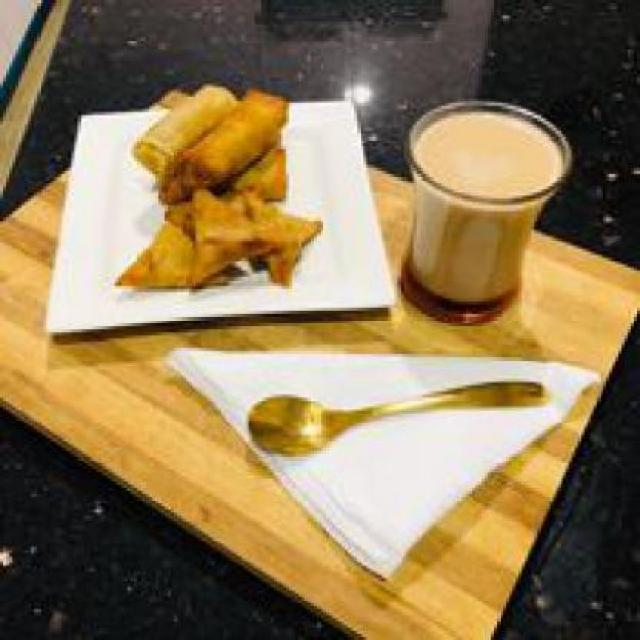samosa: (102, 190, 321, 292)
spring rolls: (134, 81, 292, 196)
